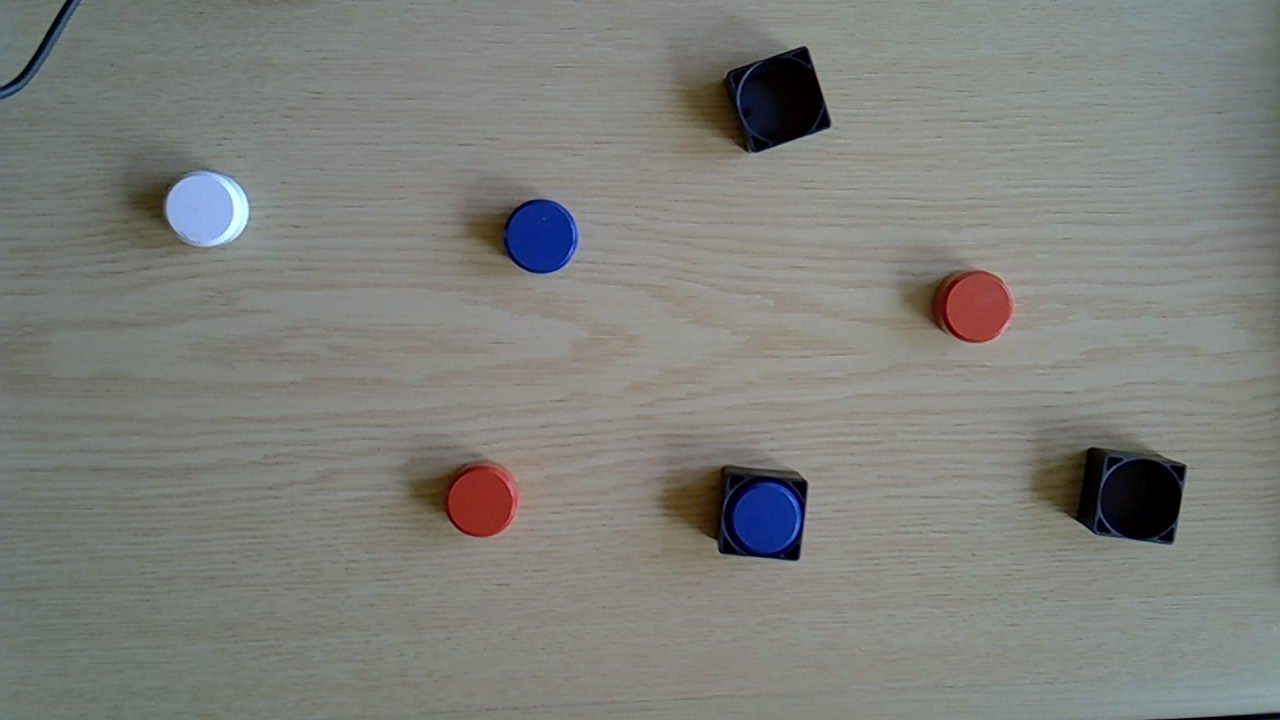Behaelter: (723, 45, 831, 156), (1074, 447, 1186, 548), (714, 464, 810, 568)
WerkStueck: (161, 171, 250, 249), (930, 270, 1014, 345), (727, 479, 804, 556), (444, 460, 519, 539), (503, 198, 580, 274)
